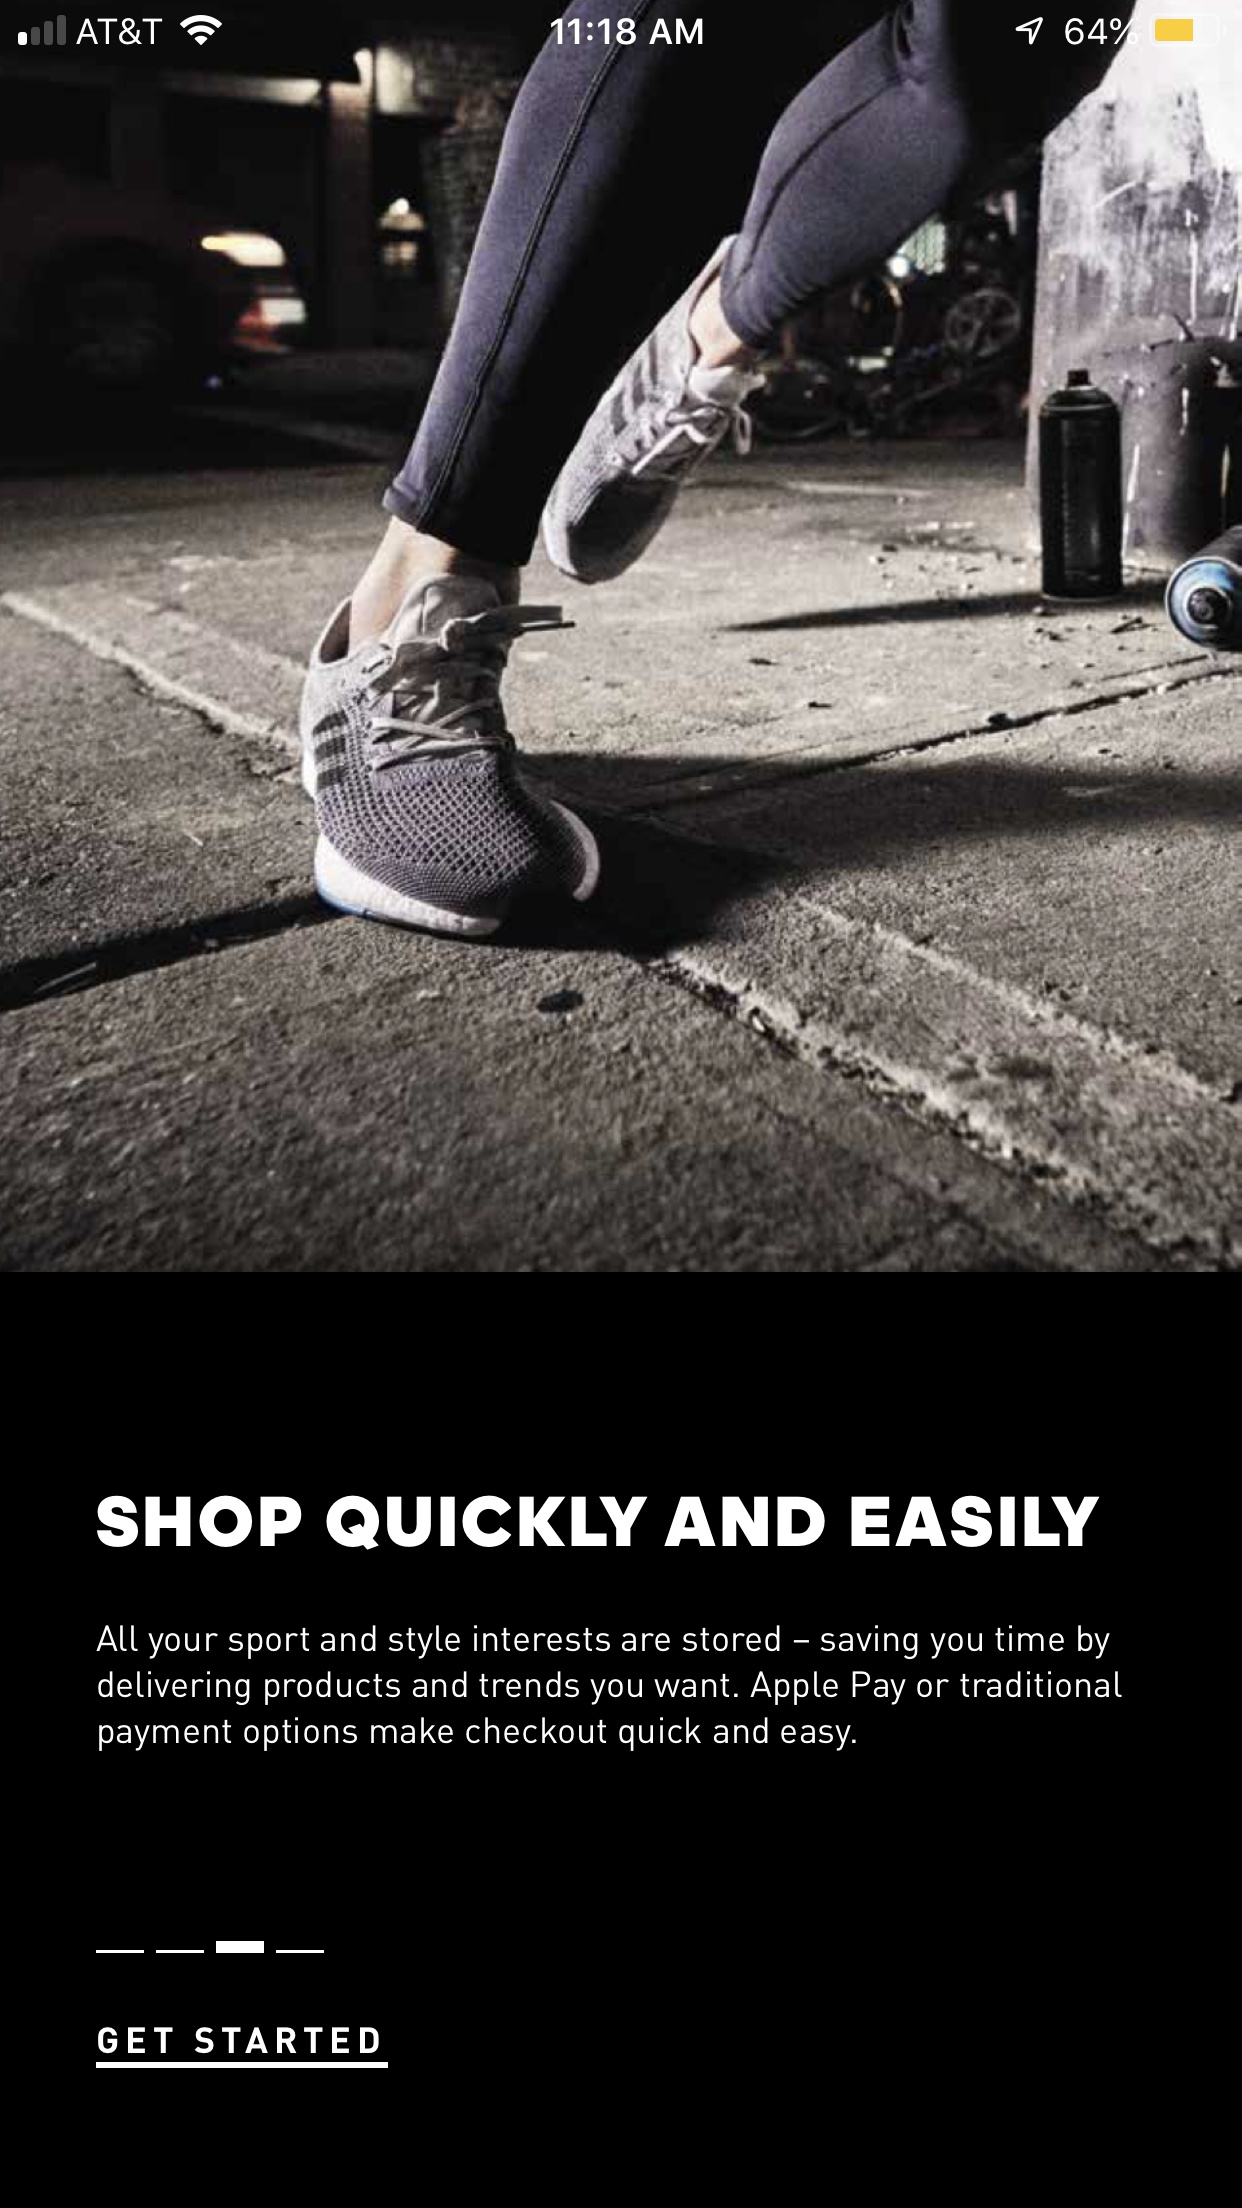Image: (2, 2, 1242, 1272)
PageIndicator: (96, 1940, 326, 1955)
Text: (96, 1624, 1124, 1752), (97, 1495, 1101, 1551), (97, 2026, 390, 2068)
UpperTaskBar: (2, 2, 1242, 49)
